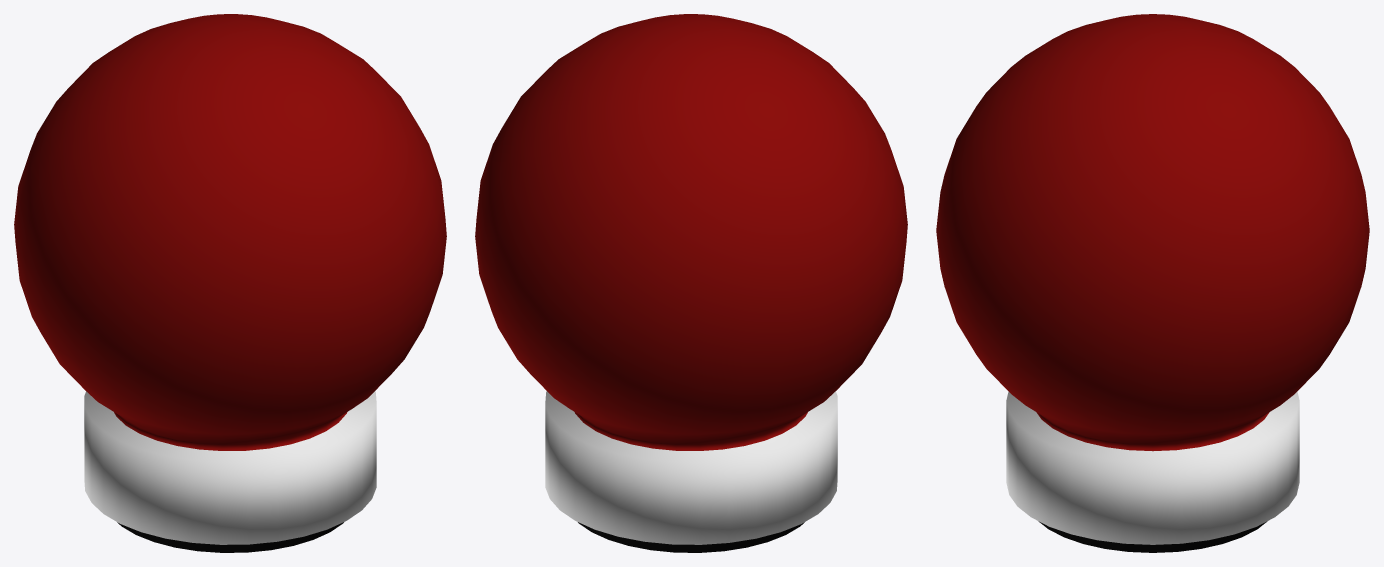
Rendered from boxglove.fbx.
3 views of the same model, side by side, from view 1: azimuth 30°, elevation 25°; view 2: azimuth 150°, elevation 25°; view 3: azimuth 270°, elevation 25° (orthographic).
Visible parts, largest first — view 1: Sphere; view 2: Sphere; view 3: Sphere.
Boxes of the visible parts, bbox=[...] form: Sphere: bbox=[14, 14, 446, 552]; Sphere: bbox=[475, 14, 907, 552]; Sphere: bbox=[936, 14, 1369, 552].
Size of the model in its own units: 200 by 237 by 200.
